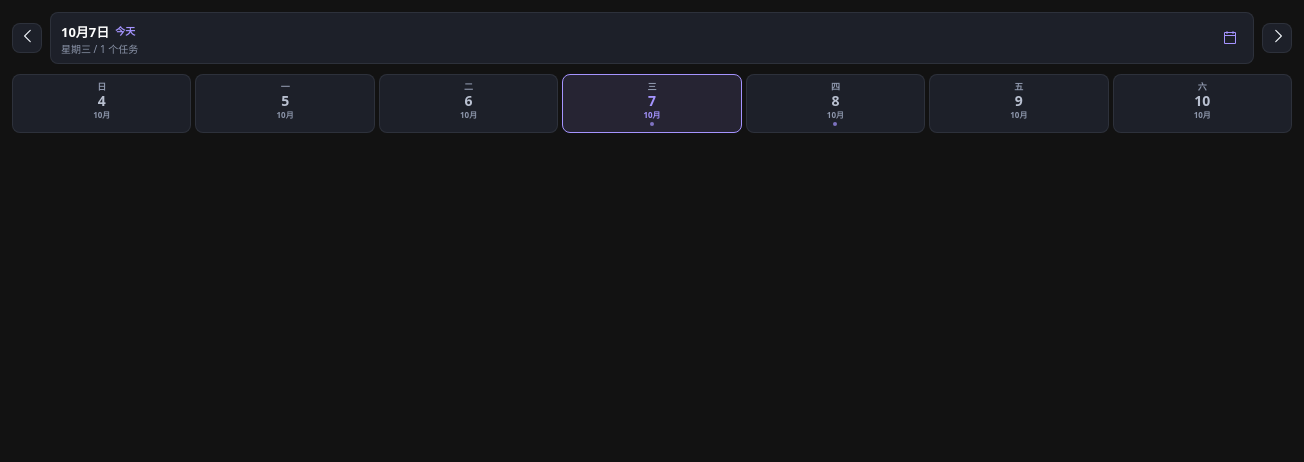
DateBar › falls back to today instead of crashing on the unusable selected day 0026-10-05
Note: The calendar shows the same fallback day and can still be opened.
Step 1. Click the button with test id "date-display-toggle" → [85, 32], box left=50, top=12, right=1254, bottom=64
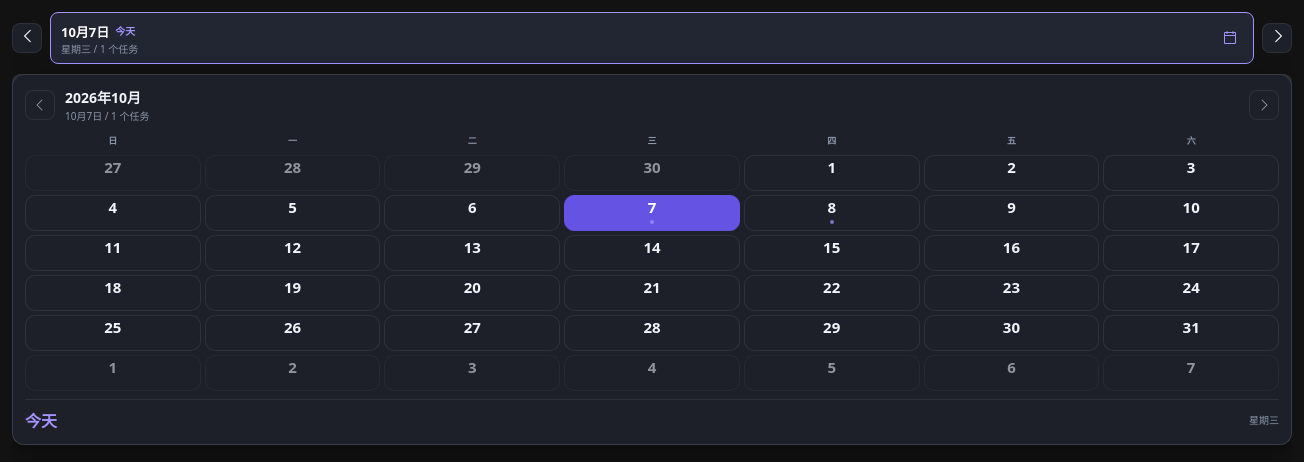
expect the element with test id "date-calendar" is shown: met
